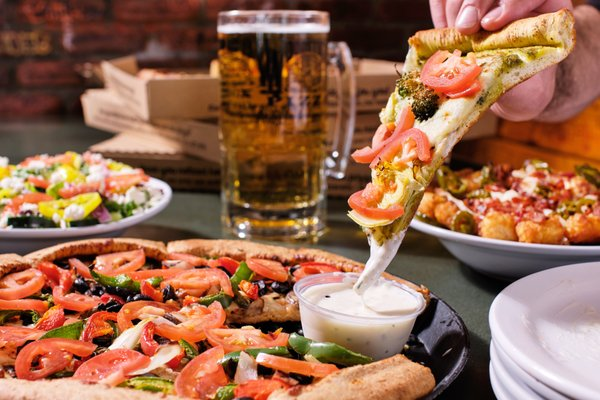sushi: (410, 157, 600, 279), (0, 149, 172, 239), (488, 260, 600, 396), (294, 270, 429, 360)
